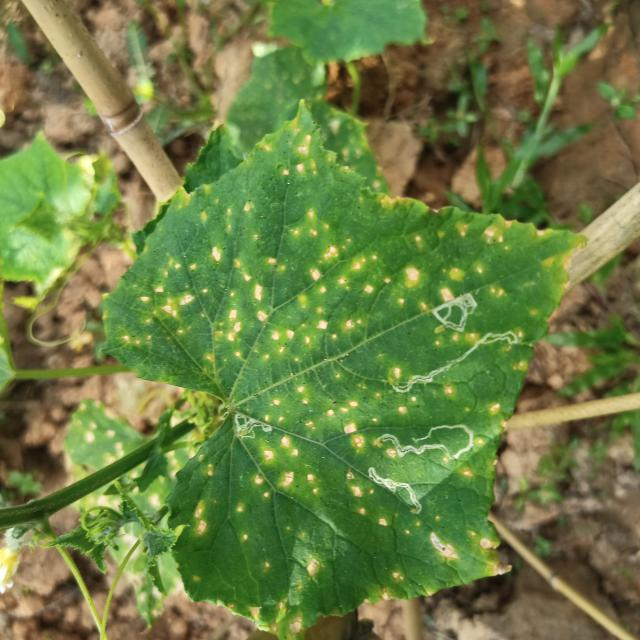disease_cucumber: (131, 132, 534, 384), (235, 433, 328, 541), (265, 384, 365, 460), (244, 555, 322, 639), (408, 517, 498, 560), (342, 471, 387, 531), (392, 383, 460, 415), (361, 569, 403, 604), (190, 494, 211, 542)
